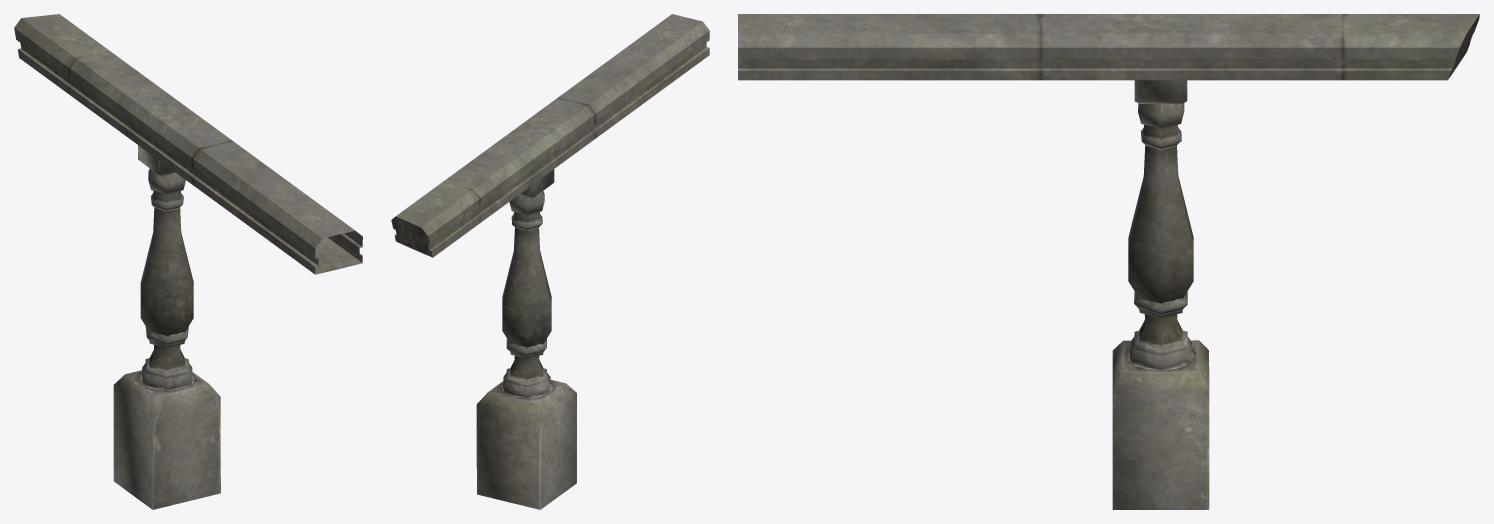
Rendered from RailingDamage01_3.fbx.
The picture shows the model from 3 angles, left to right: view 1: azimuth 30°, elevation 25°; view 2: azimuth 150°, elevation 25°; view 3: azimuth 270°, elevation 25°; orthographic projection. The views are drawn at different scales.
Visible parts, largest first — view 1: RailingDamage01_3; view 2: RailingDamage01_3; view 3: RailingDamage01_3.
Part boxes in pixels (x1=…): RailingDamage01_3: x1=14, y1=14, x2=362, y2=509; RailingDamage01_3: x1=391, y1=14, x2=709, y2=509; RailingDamage01_3: x1=738, y1=14, x2=1479, y2=509.
Bounding box in the file's own units: 20.04 × 106 × 153.
